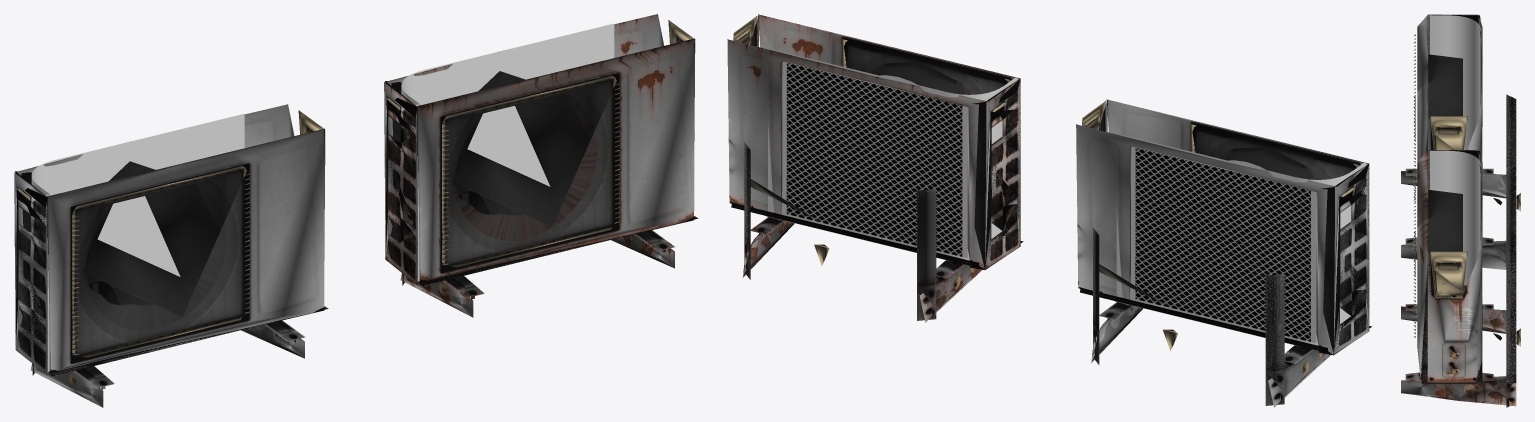
Rendered from exterior_aircon_unit.glb.
3 renders of one model, left to right at view 1: azimuth 30°, elevation 25°; view 2: azimuth 150°, elevation 25°; view 3: azimuth 270°, elevation 25°, orthographic. The views are drawn at different scales.
Parts seen in each view (by area): view 1: exterior_aircon_unit_rusted, exterior_aircon_unit; view 2: exterior_aircon_unit, exterior_aircon_unit_rusted; view 3: exterior_aircon_unit_rusted, exterior_aircon_unit.
Part boxes in pixels (x1,y1,x2,y2): exterior_aircon_unit_rusted: (384, 14, 698, 317); exterior_aircon_unit: (14, 104, 328, 407); exterior_aircon_unit: (1076, 99, 1371, 407); exterior_aircon_unit_rusted: (727, 14, 1023, 322); exterior_aircon_unit_rusted: (1401, 150, 1520, 407); exterior_aircon_unit: (1401, 14, 1520, 269).
Size of the model in its own units: 1.78 by 0.5876 by 0.3742.
4 materials, 4 textured.
